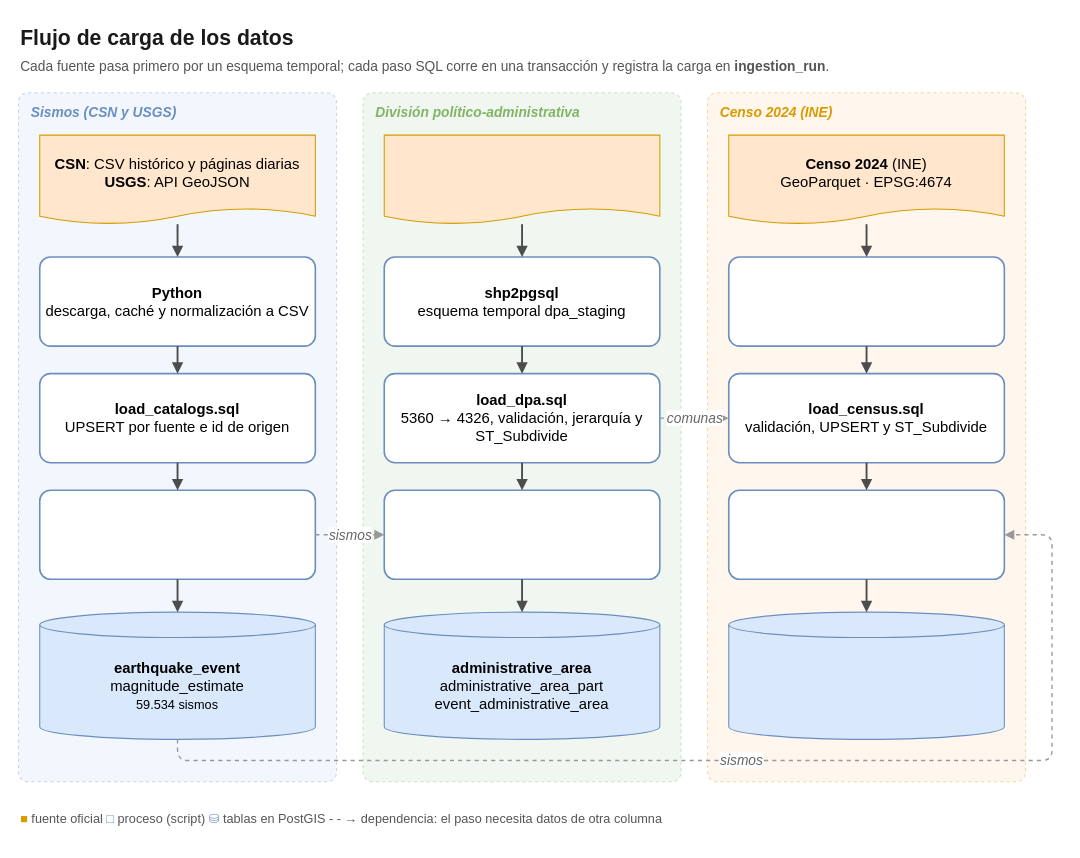
The diagram is 1080 pixels wide and 858 high, and some of its shapes have lost their labels. Here are the shapes that lost their labels. From the top down, the centre of each, then its label:
At (521,179): "DPA 2023 (SUBDERE) shapefile · EPSG:5360".
At (866,301): "ogr2ogr (GDAL de QGIS) esquema temporal ine_staging".
At (177,534): "homogenize_magnitudes.sql Mw homogéneo y todas las magnitudes".
At (521,534): "assign_event_areas.sql comuna de cada sismo (covers / nearest)".
At (866,534): "assign_urban_exposure.sql zona urbana cercana y población".
At (866,675): "urban_area , census_block event_urban_area event_population_exposure".
